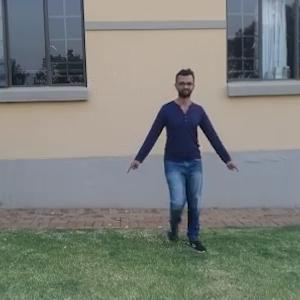land: (128, 79, 236, 242)
